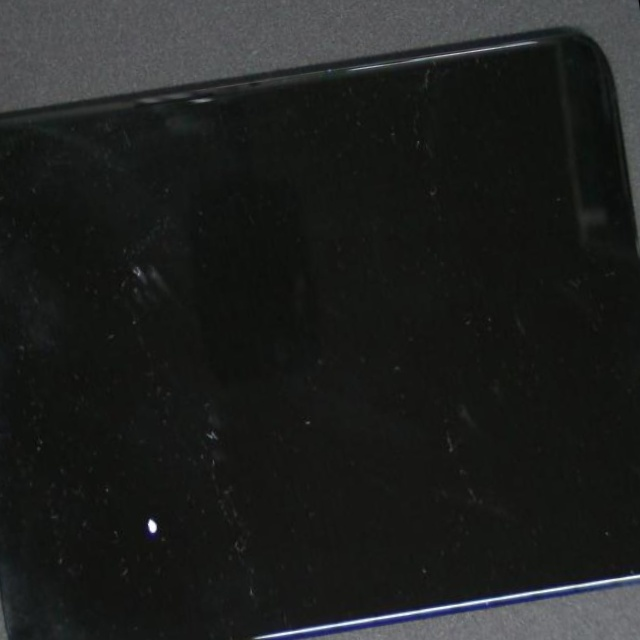stain: (16, 204, 265, 640)
